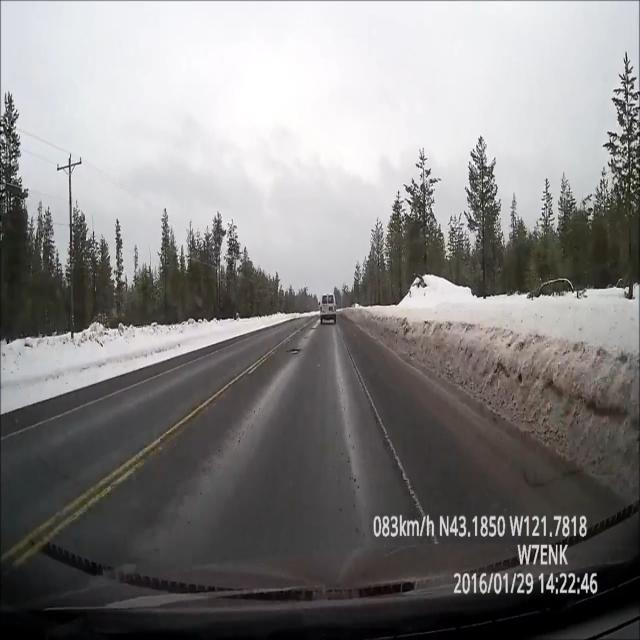Pothole: (282, 331, 307, 362)
